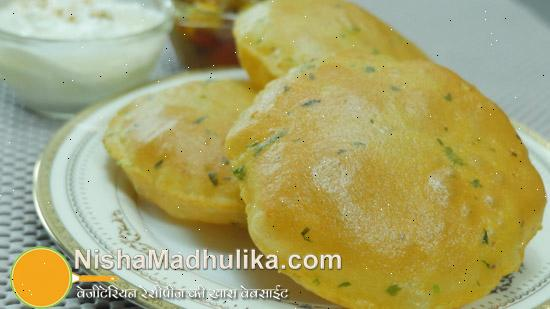puri: (160, 4, 549, 251)
